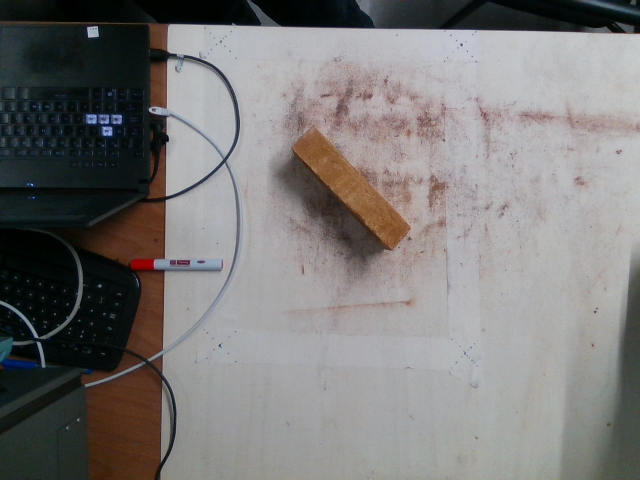brick-side: (293, 126, 407, 247)
